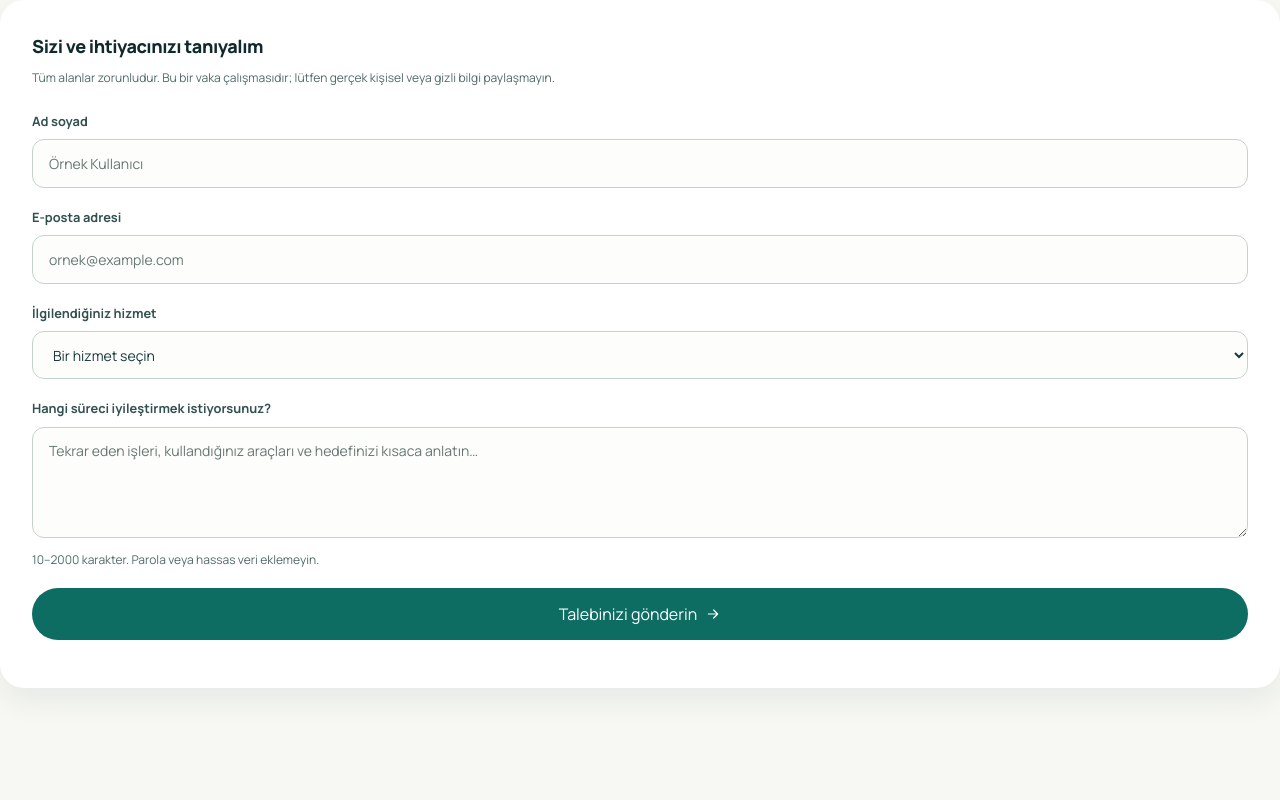
Test: request form › announces invalid fields and focuses the first invalid input without fetching
Click the button "Talebinizi gönderin" at (640, 614), box [32,588,1248,640]
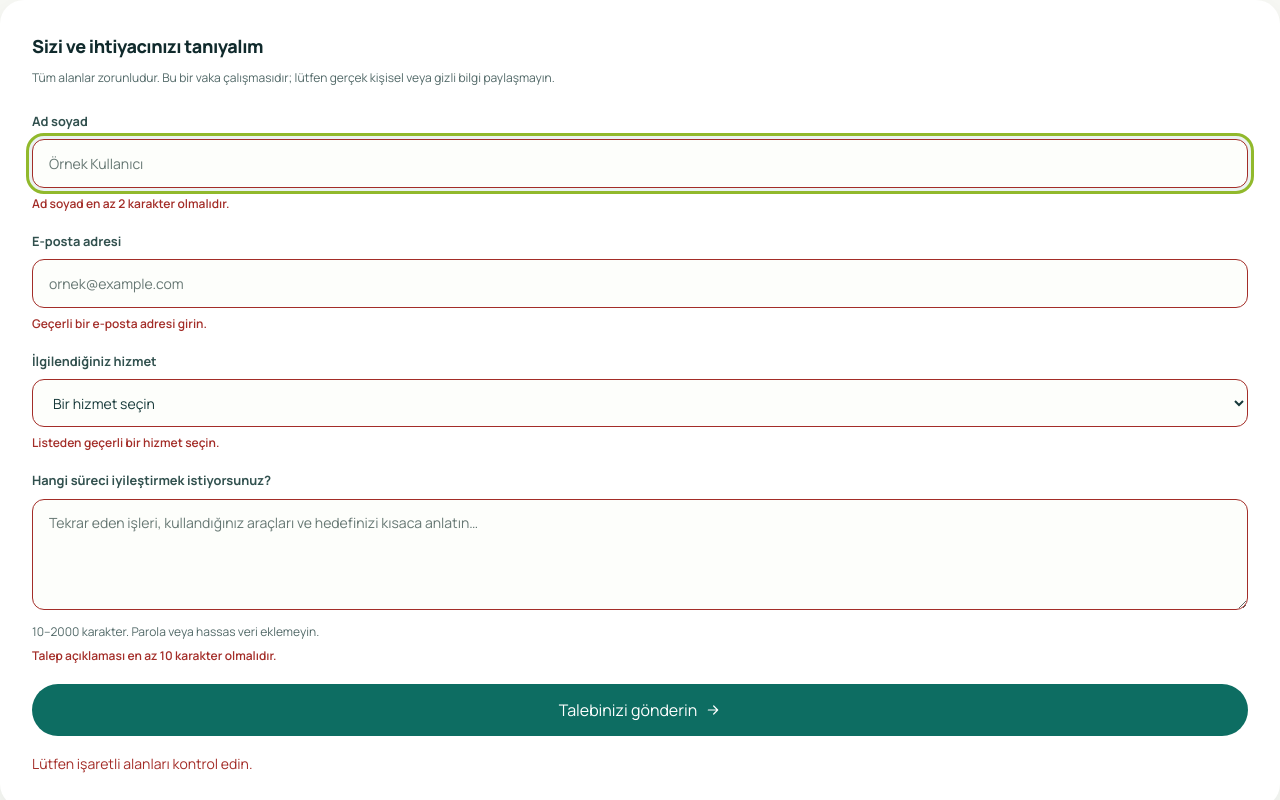
Expected: the text "Ad soyad en az 2 karakter olmalıdır." is shown, [32,195,229,212]
